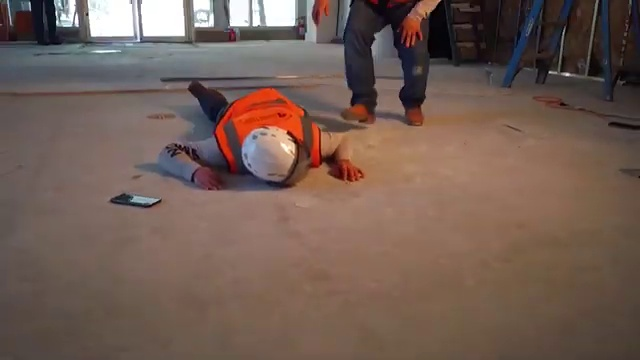helmet: (240, 124, 307, 189)
jacket: (212, 77, 309, 121)
